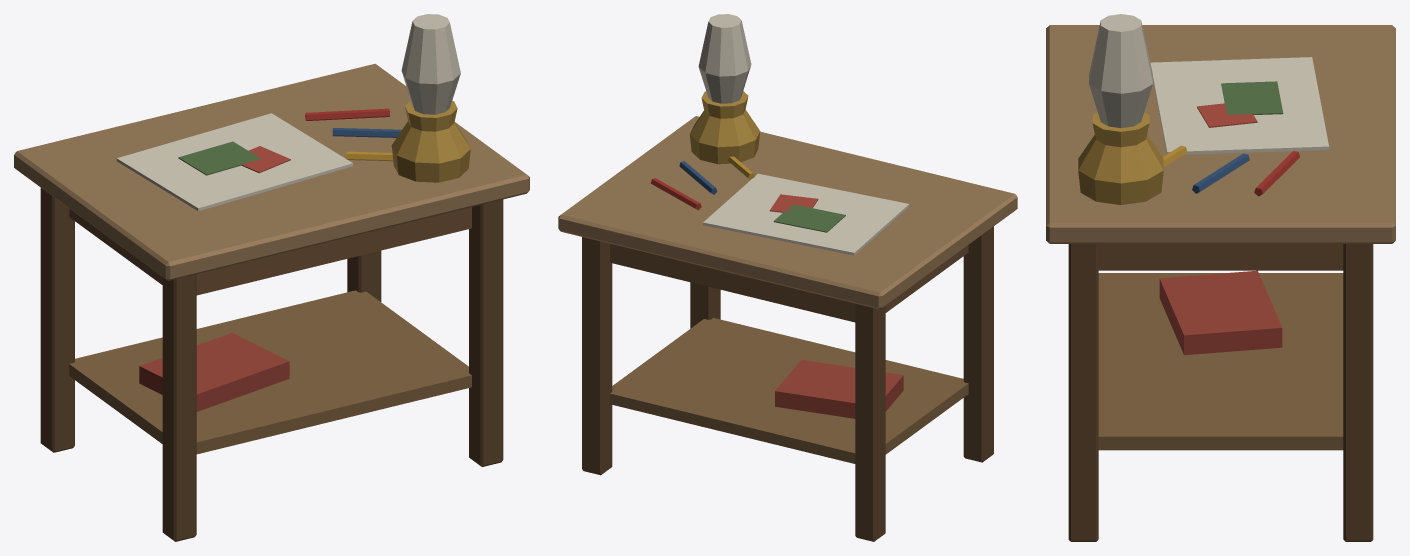
File: prop_leni_desk.glb
The picture shows the model from 3 angles, left to right: view 1: azimuth 30°, elevation 25°; view 2: azimuth 150°, elevation 25°; view 3: azimuth 270°, elevation 25°; orthographic projection. The views are drawn at different scales.
Visible parts, largest first — view 1: prop_leni_desk; view 2: prop_leni_desk; view 3: prop_leni_desk.
Part boxes in pixels (box(x1,y1,x2,y2)): prop_leni_desk: box(14, 14, 529, 541); prop_leni_desk: box(558, 14, 1017, 541); prop_leni_desk: box(1046, 14, 1395, 541).
Bounding box in the file's own units: 0.76 × 0.87 × 0.56.
